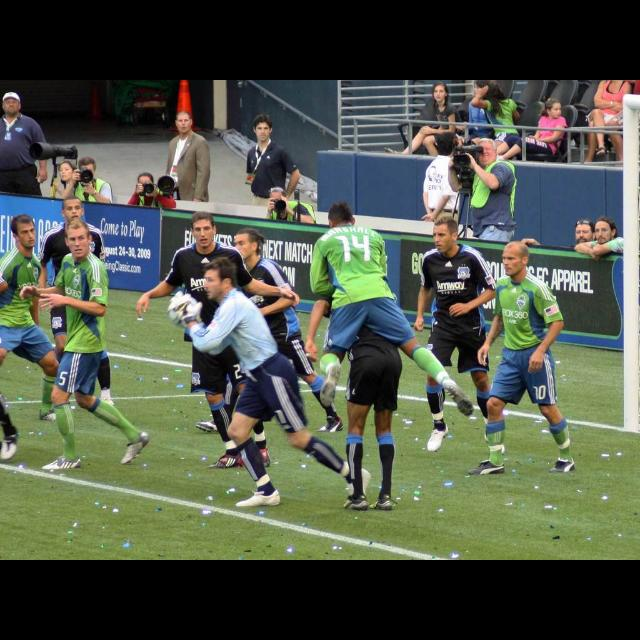Football: (164, 292, 200, 330)
